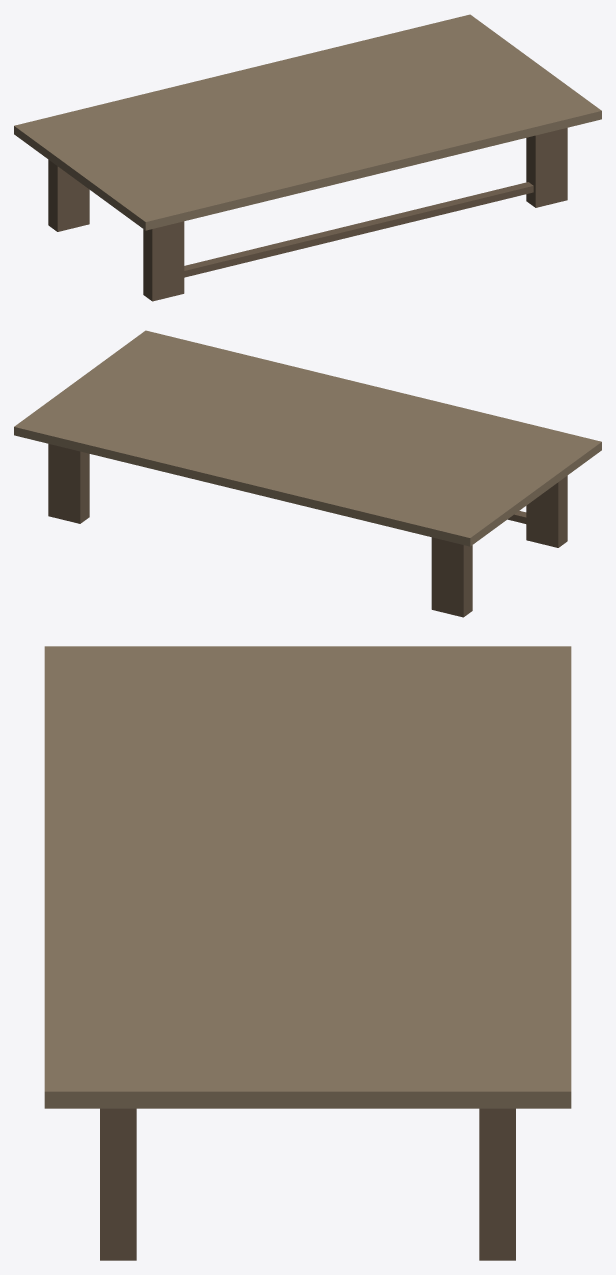
File: meeting_table.glb
3 renders of one model, top to bottom at view 1: azimuth 30°, elevation 25°; view 2: azimuth 150°, elevation 25°; view 3: azimuth 270°, elevation 25°, orthographic. The views are drawn at different scales.
Parts seen in each view (by area): view 1: meeting_table; view 2: meeting_table; view 3: meeting_table.
Part boxes in pixels (bbox=[...]): meeting_table: bbox=[14, 14, 601, 301]; meeting_table: bbox=[14, 330, 601, 617]; meeting_table: bbox=[44, 646, 571, 1260].
Bounding box in the file's own units: 3.84 × 0.76 × 1.92.
